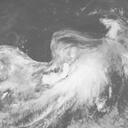cyclone: (40, 32, 107, 97)
